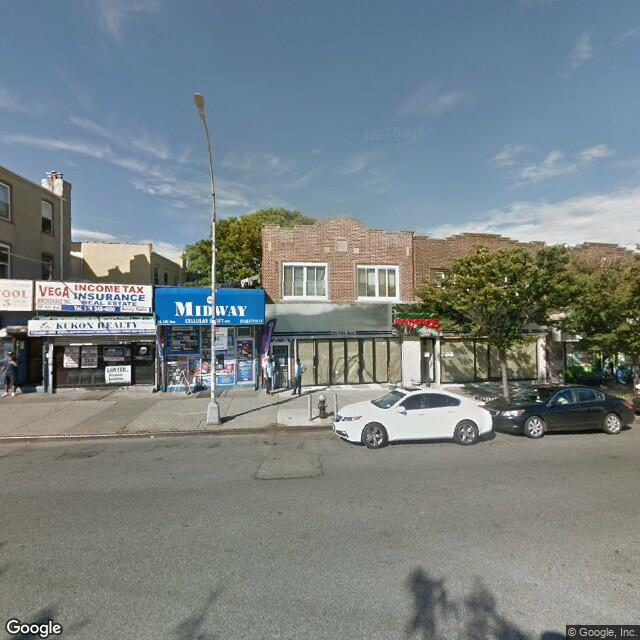litter: (144, 432, 172, 454)
